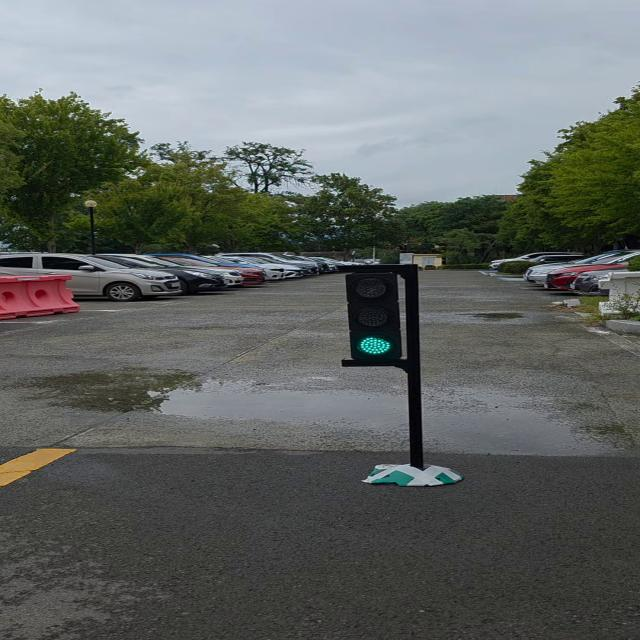green: (350, 270, 413, 365)
